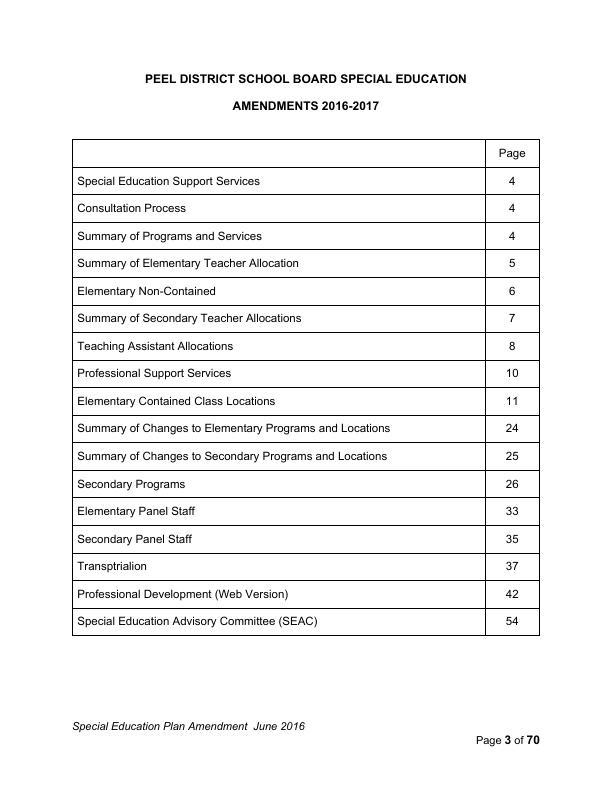table: (67, 135, 545, 640)
text: (142, 67, 471, 116), (69, 717, 309, 738), (471, 731, 547, 748)
